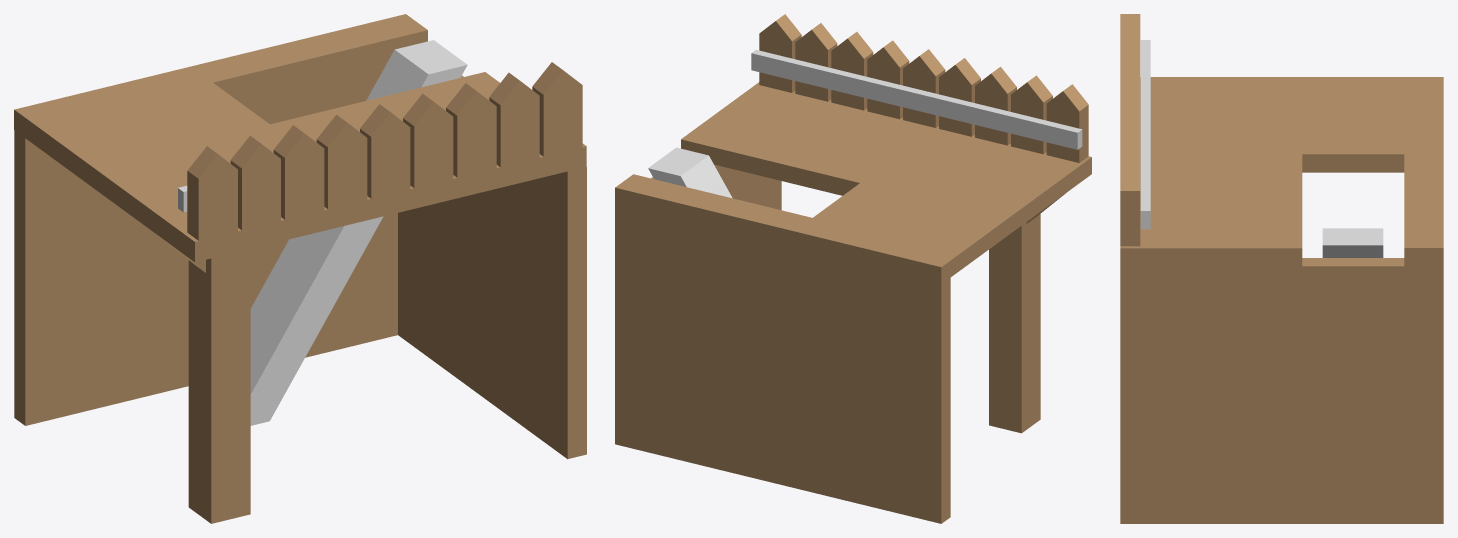
The picture shows the model from 3 angles, left to right: view 1: azimuth 30°, elevation 25°; view 2: azimuth 150°, elevation 25°; view 3: azimuth 270°, elevation 25°; orthographic projection. The views are drawn at different scales.
Parts seen in each view (by area): view 1: Cube.001, Cube.003, Cube.012, Cube.002, Cube, Cube.004; view 2: Cube.001, Cube.003, Cube.012, Cube.002, Cube; view 3: Cube.001, Cube.003, Cube.012, Cube.
Boxes of the visible parts, x1,y1,x2,y2 form: Cube.001: (14, 60, 586, 459); Cube.003: (14, 14, 586, 262); Cube.012: (178, 62, 582, 240); Cube.002: (159, 236, 257, 523); Cube: (250, 40, 467, 425); Cube.004: (251, 70, 460, 404); Cube.001: (615, 164, 950, 523); Cube.003: (615, 82, 1091, 284); Cube.012: (751, 14, 1088, 162); Cube.002: (989, 194, 1064, 433); Cube: (648, 147, 732, 198); Cube.001: (1120, 258, 1443, 523); Cube.003: (1120, 77, 1443, 266); Cube.012: (1120, 14, 1150, 246); Cube: (1322, 228, 1383, 257).
Size of the model in its own units: 2000 by 1903 by 1598.
